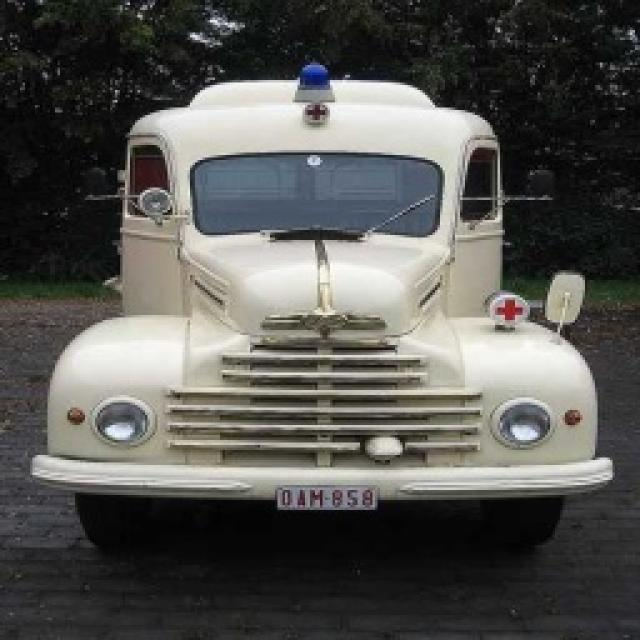emergency-vehicle: (46, 52, 620, 566)
